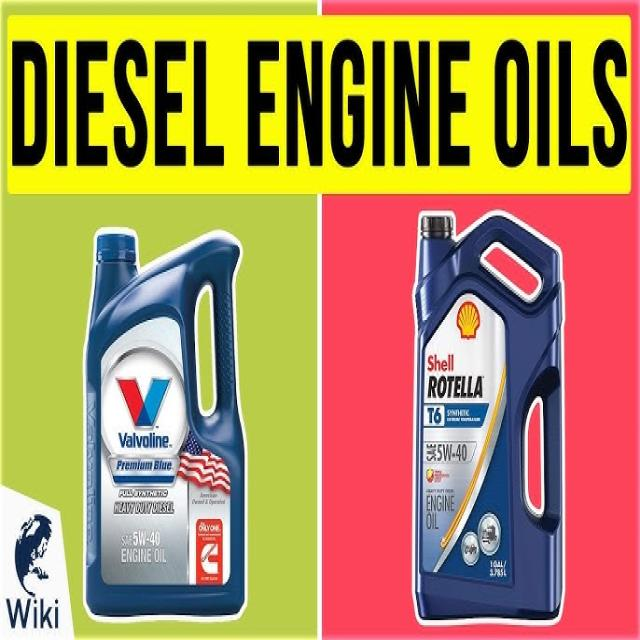motor_oil: (402, 200, 571, 632), (78, 217, 250, 628)
